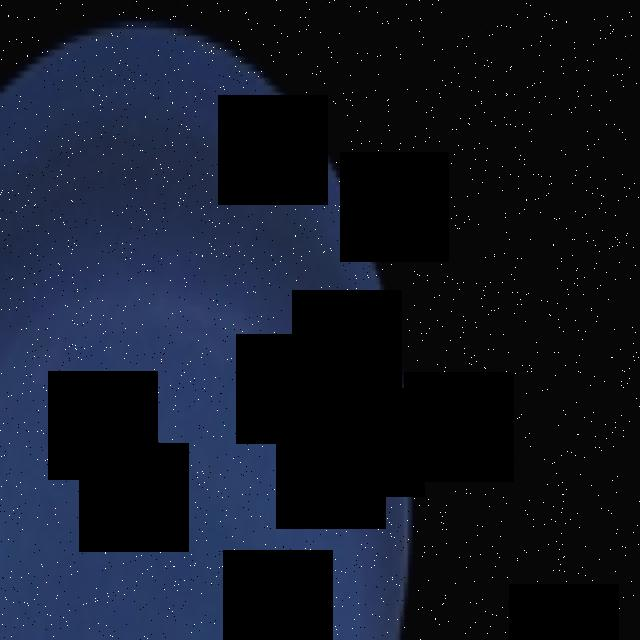Neptune: (0, 21, 416, 640)
